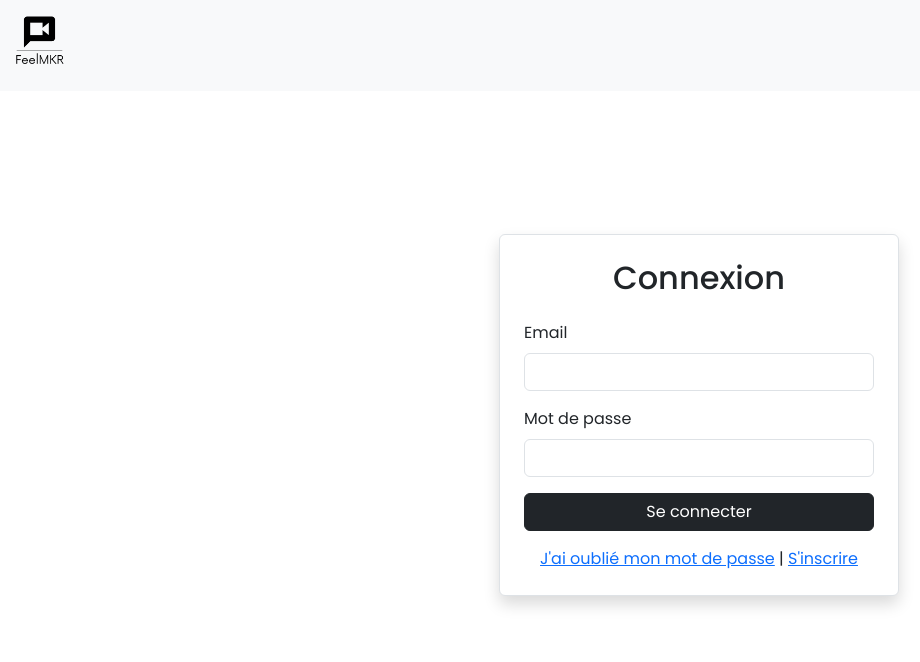
it: LoginPage › devrait afficher une erreur si les identifiants sont invalides
The width and height of the screenshot is (920, 662).
Type "wrong@example.com" into the field labelled "Email" at (699,372), box [524, 353, 874, 391]
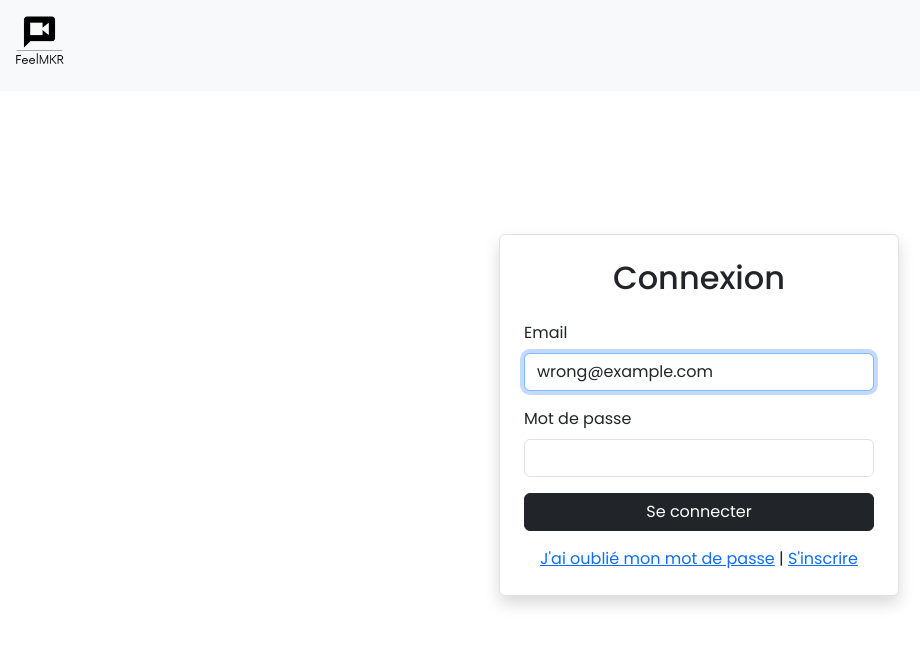
Type "wrongpassword" into the password field labelled "Mot de passe" at (699,458), box [524, 439, 874, 477]
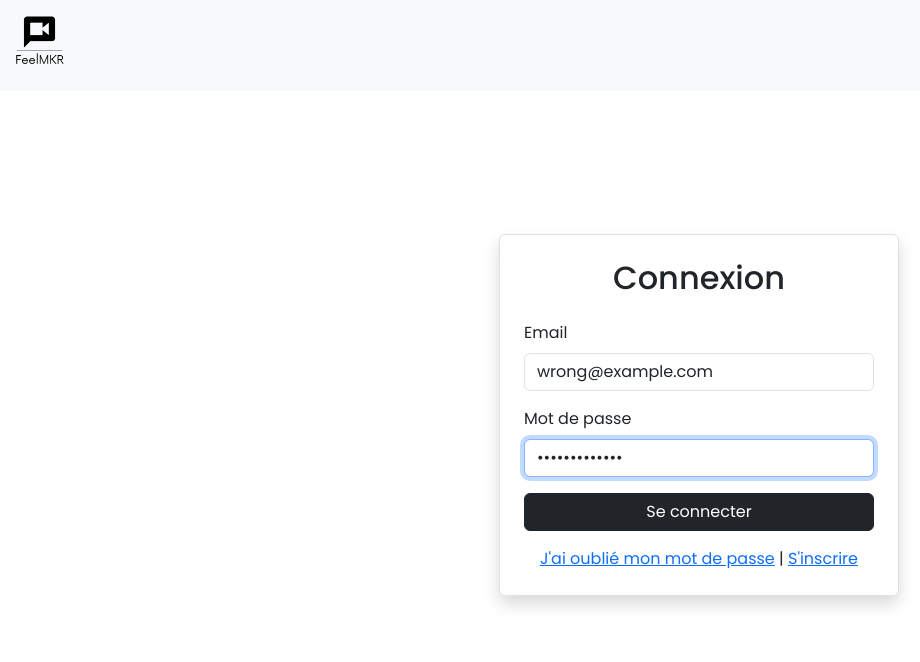
Note: Clic sur le bouton de connexion
Click the button "Se connecter" at (699,512), box [524, 493, 874, 531]
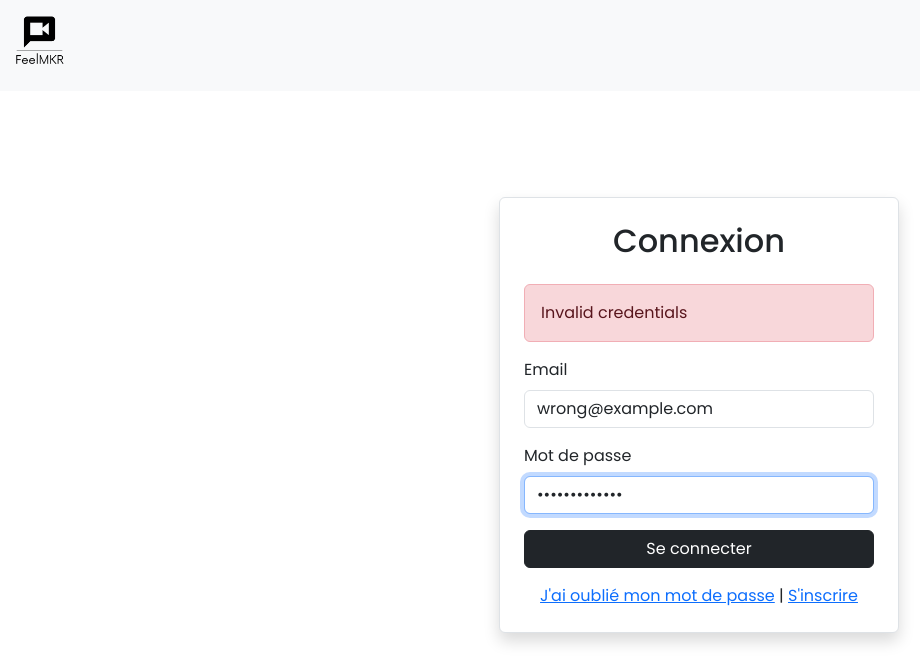
Result: the text "Invalid credentials" is shown at [524, 284, 874, 342]
